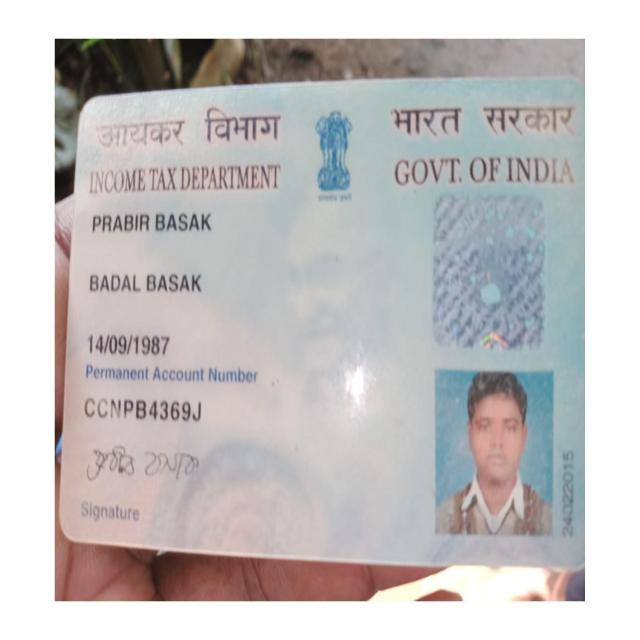pan_card: (67, 86, 583, 567)
